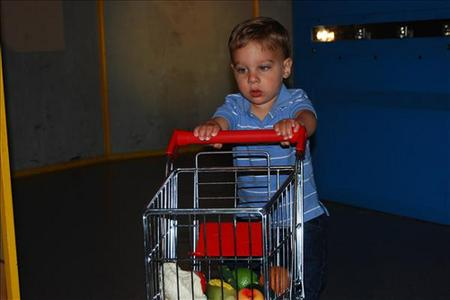person: (191, 15, 330, 300)
